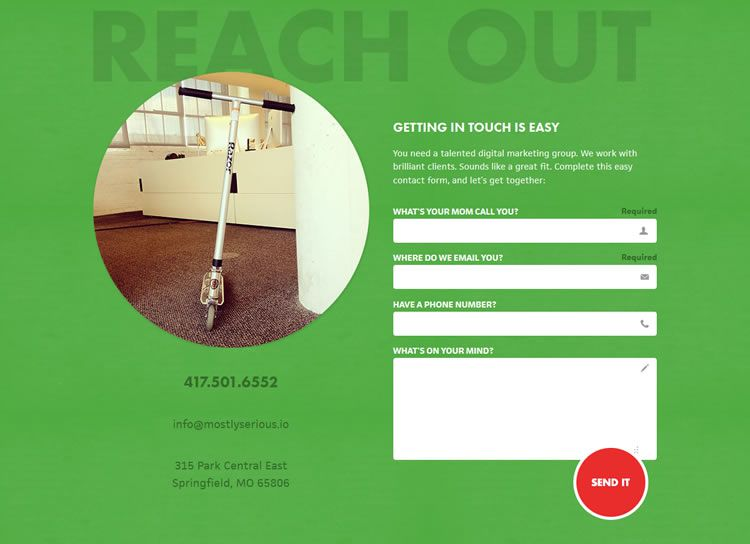_form_: (290, 115, 706, 531)
button: (571, 447, 649, 522)
field: (393, 356, 659, 461), (391, 217, 657, 244), (392, 263, 658, 290), (392, 311, 658, 337)
field_with_label: (391, 344, 661, 465), (389, 252, 660, 293), (390, 300, 661, 339), (389, 206, 659, 245)
